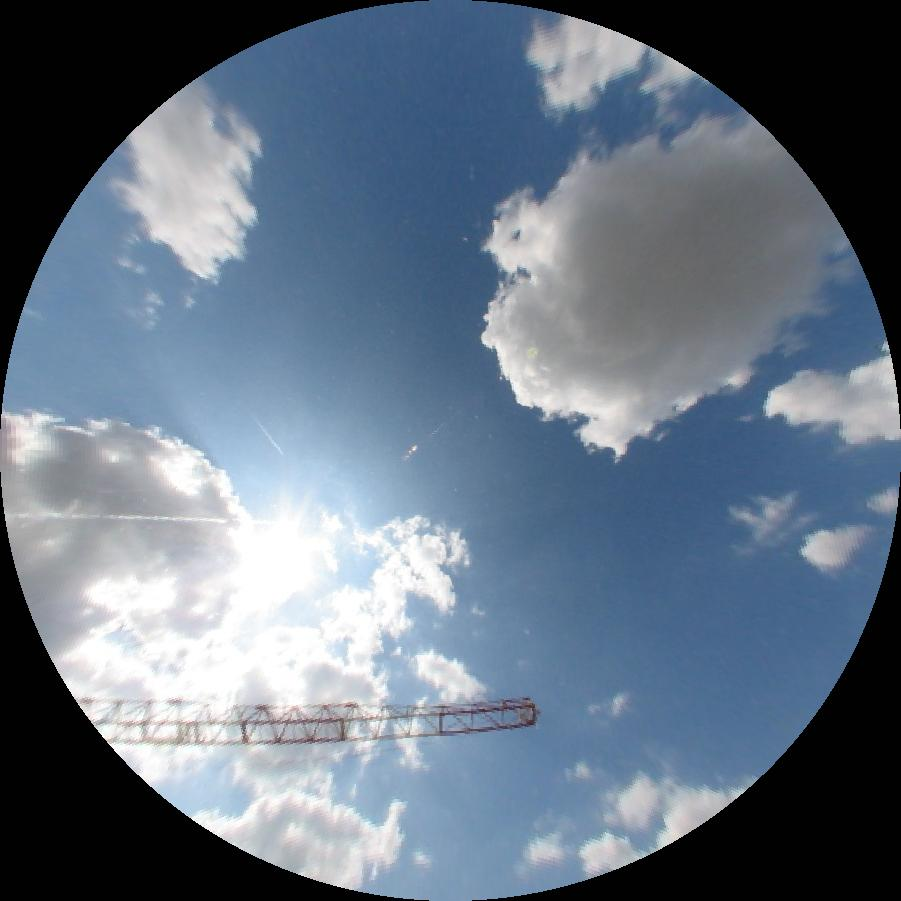contrail young: (252, 416, 285, 456)
parasite: (6, 513, 290, 524)
sun: (236, 520, 312, 598)
